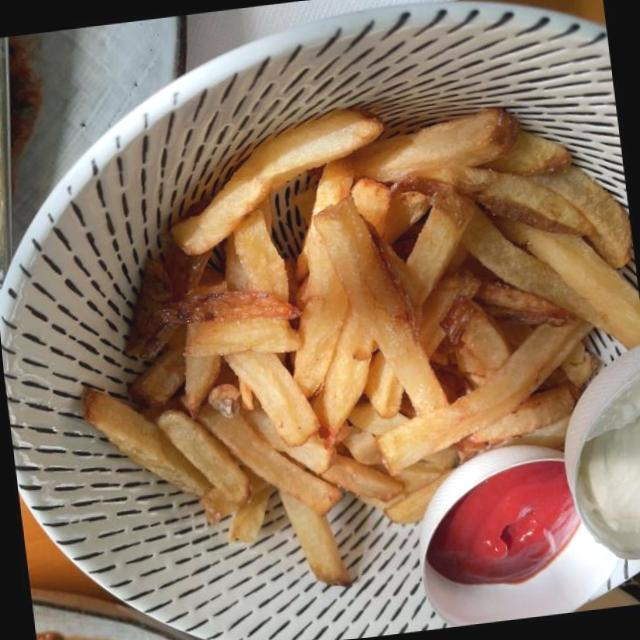French Fries: (53, 80, 640, 554)
Sauce: (406, 449, 600, 604)
